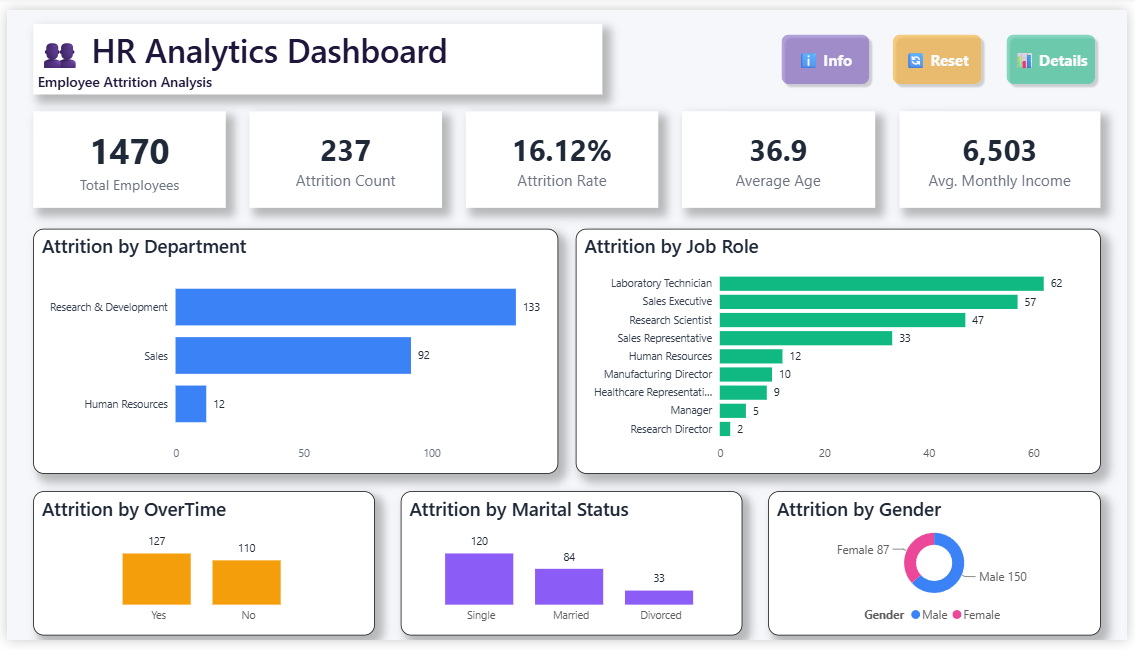

Layout of this report page (visuals, bound fields, positions):
{"tool":"powerbi","page":{"name":"🏠 Dashboard","canvas":[1280,720],"ordinal":0},"visuals":[{"type":"cardVisual","fields":{"Data":["CountNonNull(hr_cleaned.EmployeeNumber)"]},"box":[30.2,115,220,110],"z":0},{"type":"cardVisual","fields":{"Data":["hr_cleaned.Attrition Count"]},"box":[277.5,115,220,110],"z":1000},{"type":"cardVisual","fields":{"Data":["hr_cleaned.Attrition Rate"]},"box":[524.8,115,220,110],"z":2000},{"type":"cardVisual","fields":{"Data":["hr_cleaned.Average Age"]},"box":[772.1,115,220.8,110],"z":3000},{"type":"cardVisual","fields":{"Data":["hr_cleaned.Average Monthly Income"]},"box":[1020.6,115,229.2,110],"z":4000},{"type":"textbox","box":[30.2,15,650.3,81],"z":5000},{"type":"clusteredBarChart","title":"Attrition by Department","fields":{"Category":["hr_cleaned.Department"],"Y":["hr_cleaned.Attrition Count"]},"box":[30.2,250,600,280],"z":6000},{"type":"clusteredBarChart","title":"Attrition by Job Role","fields":{"Category":["hr_cleaned.JobRole"],"Y":["hr_cleaned.Attrition Count"]},"box":[650,250,600,280],"z":7000},{"type":"clusteredColumnChart","title":"Attrition by OverTime","fields":{"Category":["hr_cleaned.OverTime"],"Y":["hr_cleaned.Attrition Count"]},"box":[30,550,390,165],"z":8000},{"type":"clusteredColumnChart","title":"Attrition by Marital Status","fields":{"Category":["hr_cleaned.MaritalStatus"],"Y":["hr_cleaned.Attrition Count"]},"box":[450,550,390,165],"z":9000},{"type":"donutChart","title":"Attrition by Gender","fields":{"Category":["hr_cleaned.Gender"],"Y":["hr_cleaned.Attrition Count"]},"box":[870,550,380,165],"z":10000},{"type":"actionButton","box":[878.3,21,113.4,70],"z":11000},{"type":"actionButton","box":[1006.2,21,114.6,70],"z":12000},{"type":"actionButton","box":[1135.3,21,114.6,70],"z":13000}]}

Visuals, with their boxes in screenshot pixels (x1, y1, x2, y2), scaled from the page's 1280x720 canvas onto the 1135x650 screenshot:
cardVisual - CountNonNull(hr_cleaned.EmployeeNumber): (left=27, top=104, right=222, bottom=203)
cardVisual - hr_cleaned.Attrition Count: (left=246, top=104, right=441, bottom=203)
cardVisual - hr_cleaned.Attrition Rate: (left=465, top=104, right=660, bottom=203)
cardVisual - hr_cleaned.Average Age: (left=685, top=104, right=880, bottom=203)
cardVisual - hr_cleaned.Average Monthly Income: (left=905, top=104, right=1108, bottom=203)
textbox: (left=27, top=14, right=603, bottom=87)
"Attrition by Department" clusteredBarChart: (left=27, top=226, right=559, bottom=478)
"Attrition by Job Role" clusteredBarChart: (left=576, top=226, right=1108, bottom=478)
"Attrition by OverTime" clusteredColumnChart: (left=27, top=497, right=372, bottom=645)
"Attrition by Marital Status" clusteredColumnChart: (left=399, top=497, right=745, bottom=645)
"Attrition by Gender" donutChart: (left=771, top=497, right=1108, bottom=645)
actionButton: (left=779, top=19, right=879, bottom=82)
actionButton: (left=892, top=19, right=994, bottom=82)
actionButton: (left=1007, top=19, right=1108, bottom=82)
